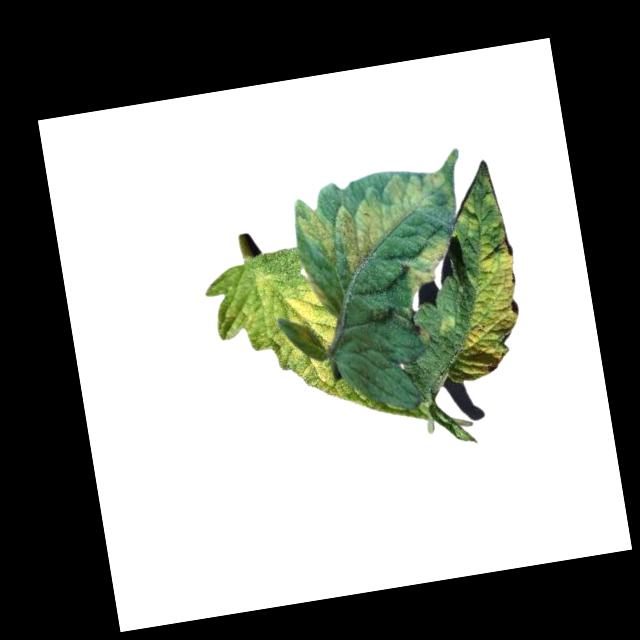Leaf_Mold: (418, 156, 532, 381), (200, 257, 351, 426), (293, 164, 464, 277), (392, 235, 457, 301)
